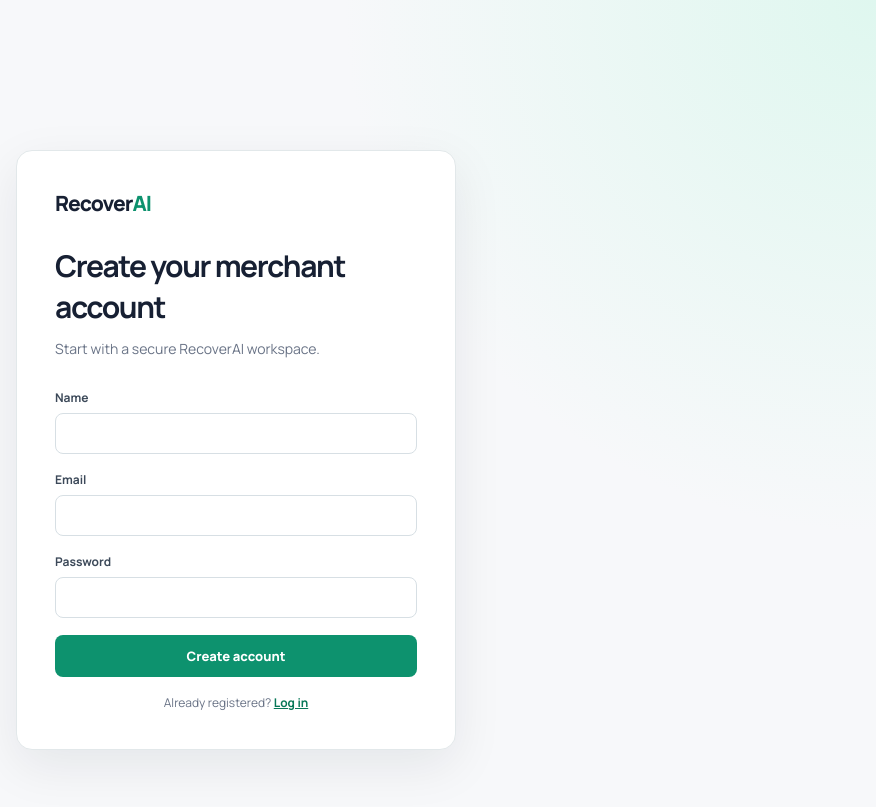
Test: merchant authentication flow › registers an account and directs the merchant to login
The width and height of the screenshot is (876, 807).
Type "Acme Store" into the field labelled "Name" at (236, 433), box [55, 412, 417, 454]
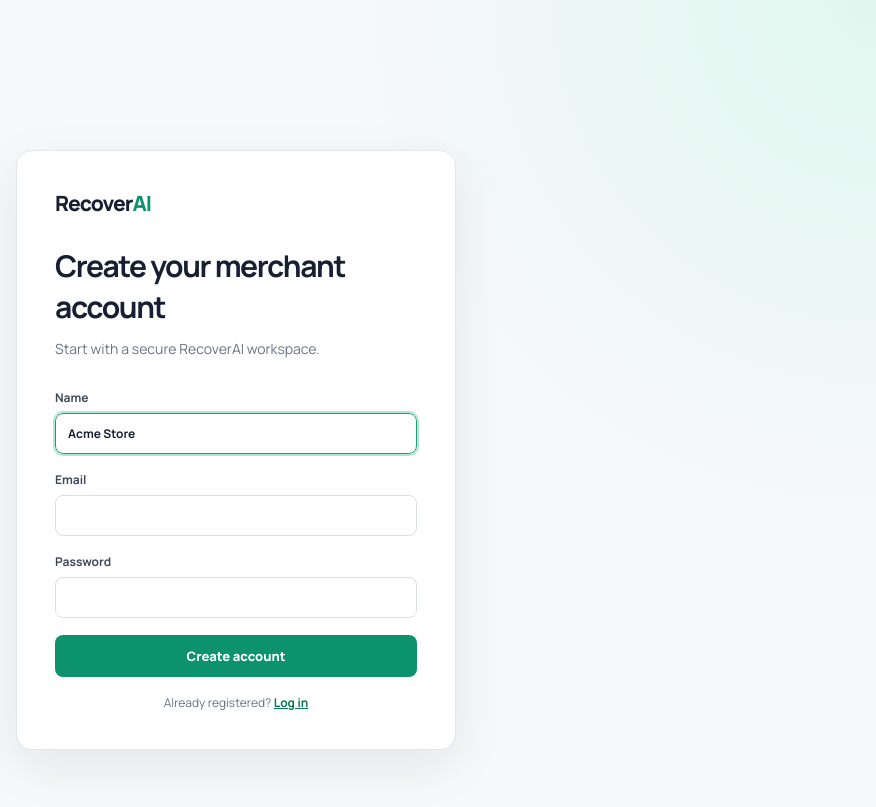
Type "owner@acme.test" into the field labelled "Email" at (236, 515), box [55, 494, 417, 536]
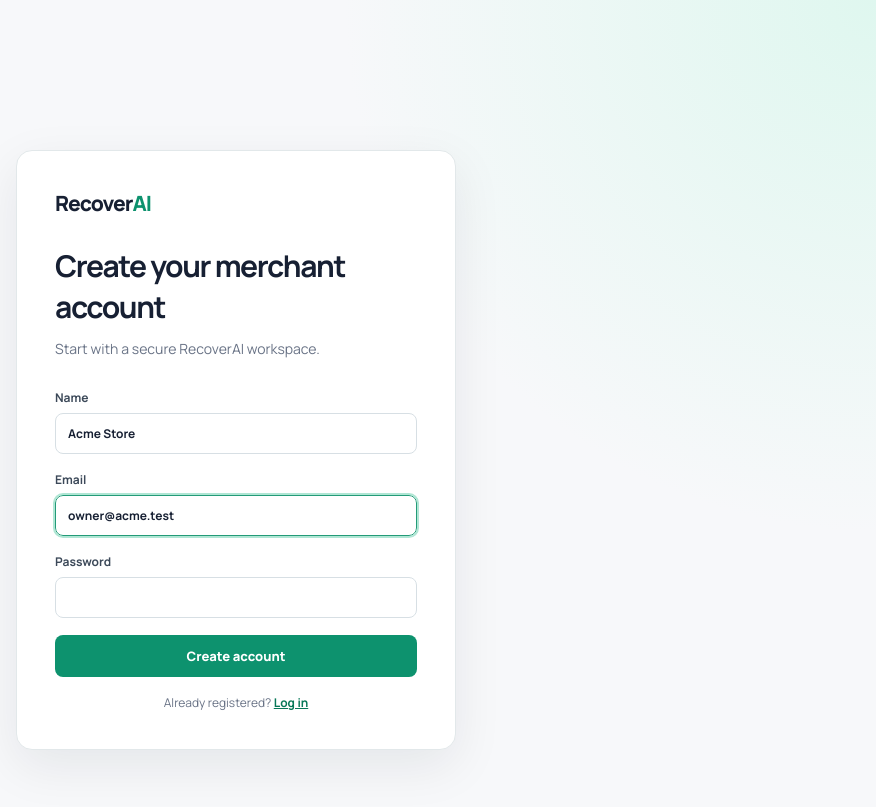
Type "password123" into the password field labelled "Password" at (236, 597), box [55, 576, 417, 618]
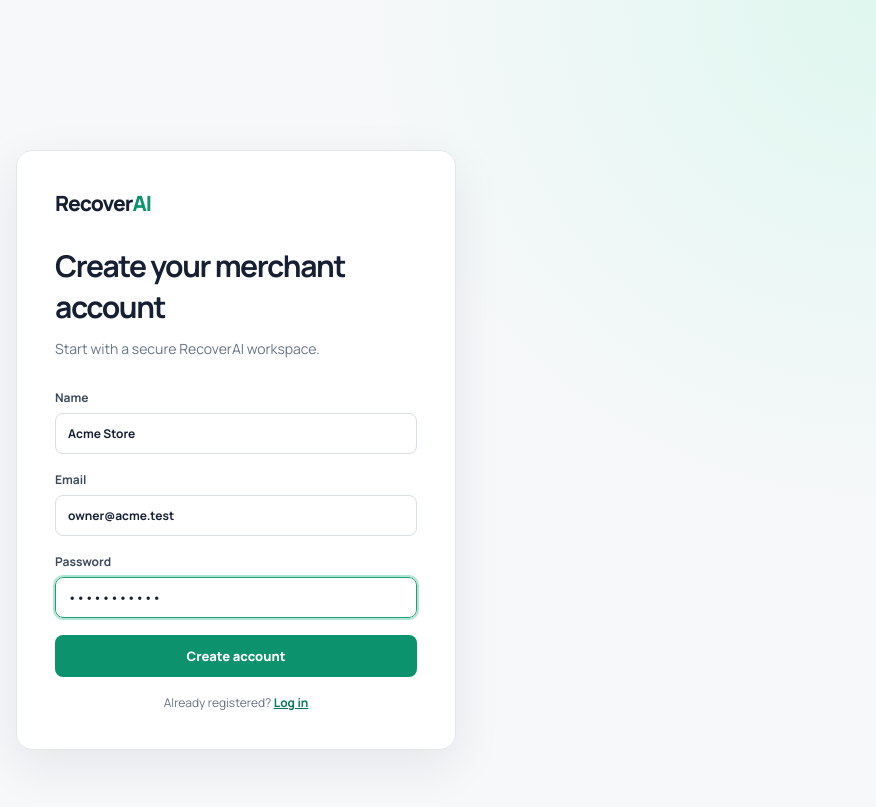
Click the button "Create account" at (236, 656), box [55, 634, 417, 676]
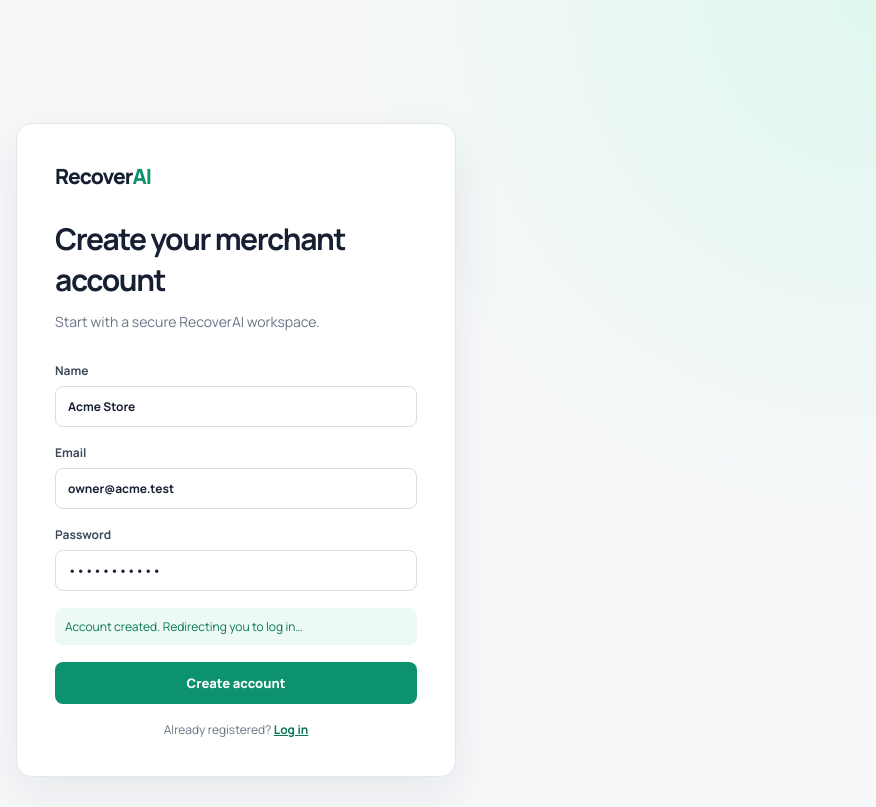
Check: the message shows "Account created", box [65, 618, 303, 634]
